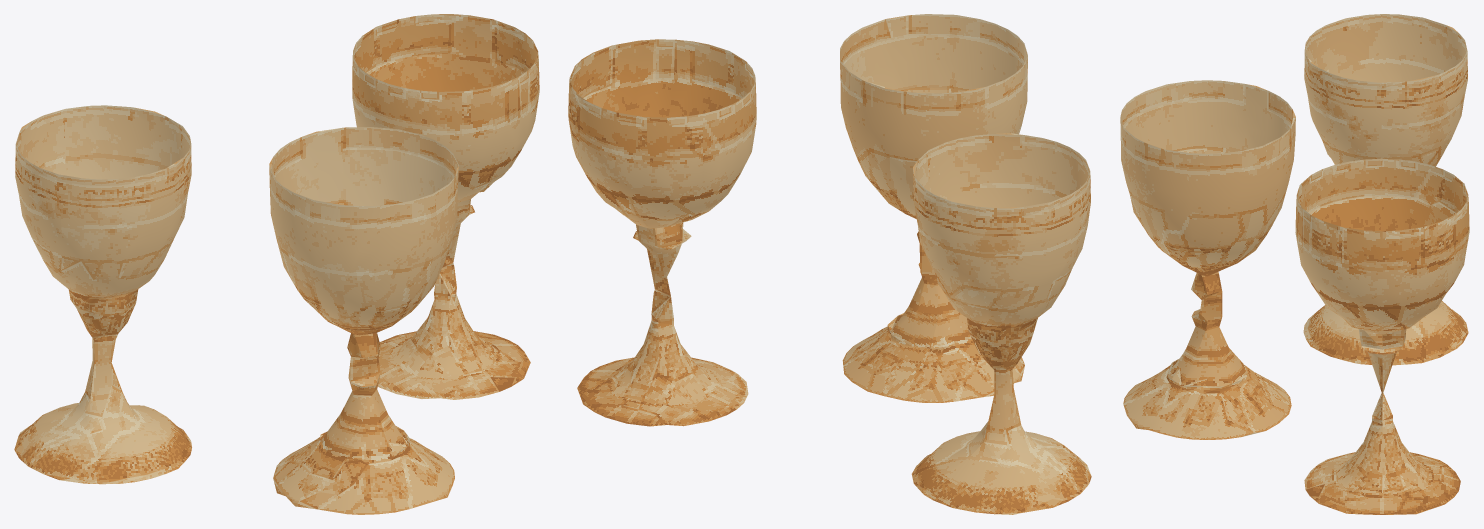
The model's file is brass_goblets.glb.
3 renders of one model, left to right at view 1: azimuth 30°, elevation 25°; view 2: azimuth 150°, elevation 25°; view 3: azimuth 270°, elevation 25°, orthographic. The views are drawn at different scales.
Visible parts, largest first — view 1: mesh; view 2: mesh; view 3: mesh.
Boxes of the visible parts, x1,y1,x2,y2 form: mesh: [14, 14, 539, 514]; mesh: [568, 14, 1091, 514]; mesh: [1120, 14, 1469, 514].
Size of the model in its own units: 40.63 by 24.6 by 26.61.
1 material, 1 textured.
